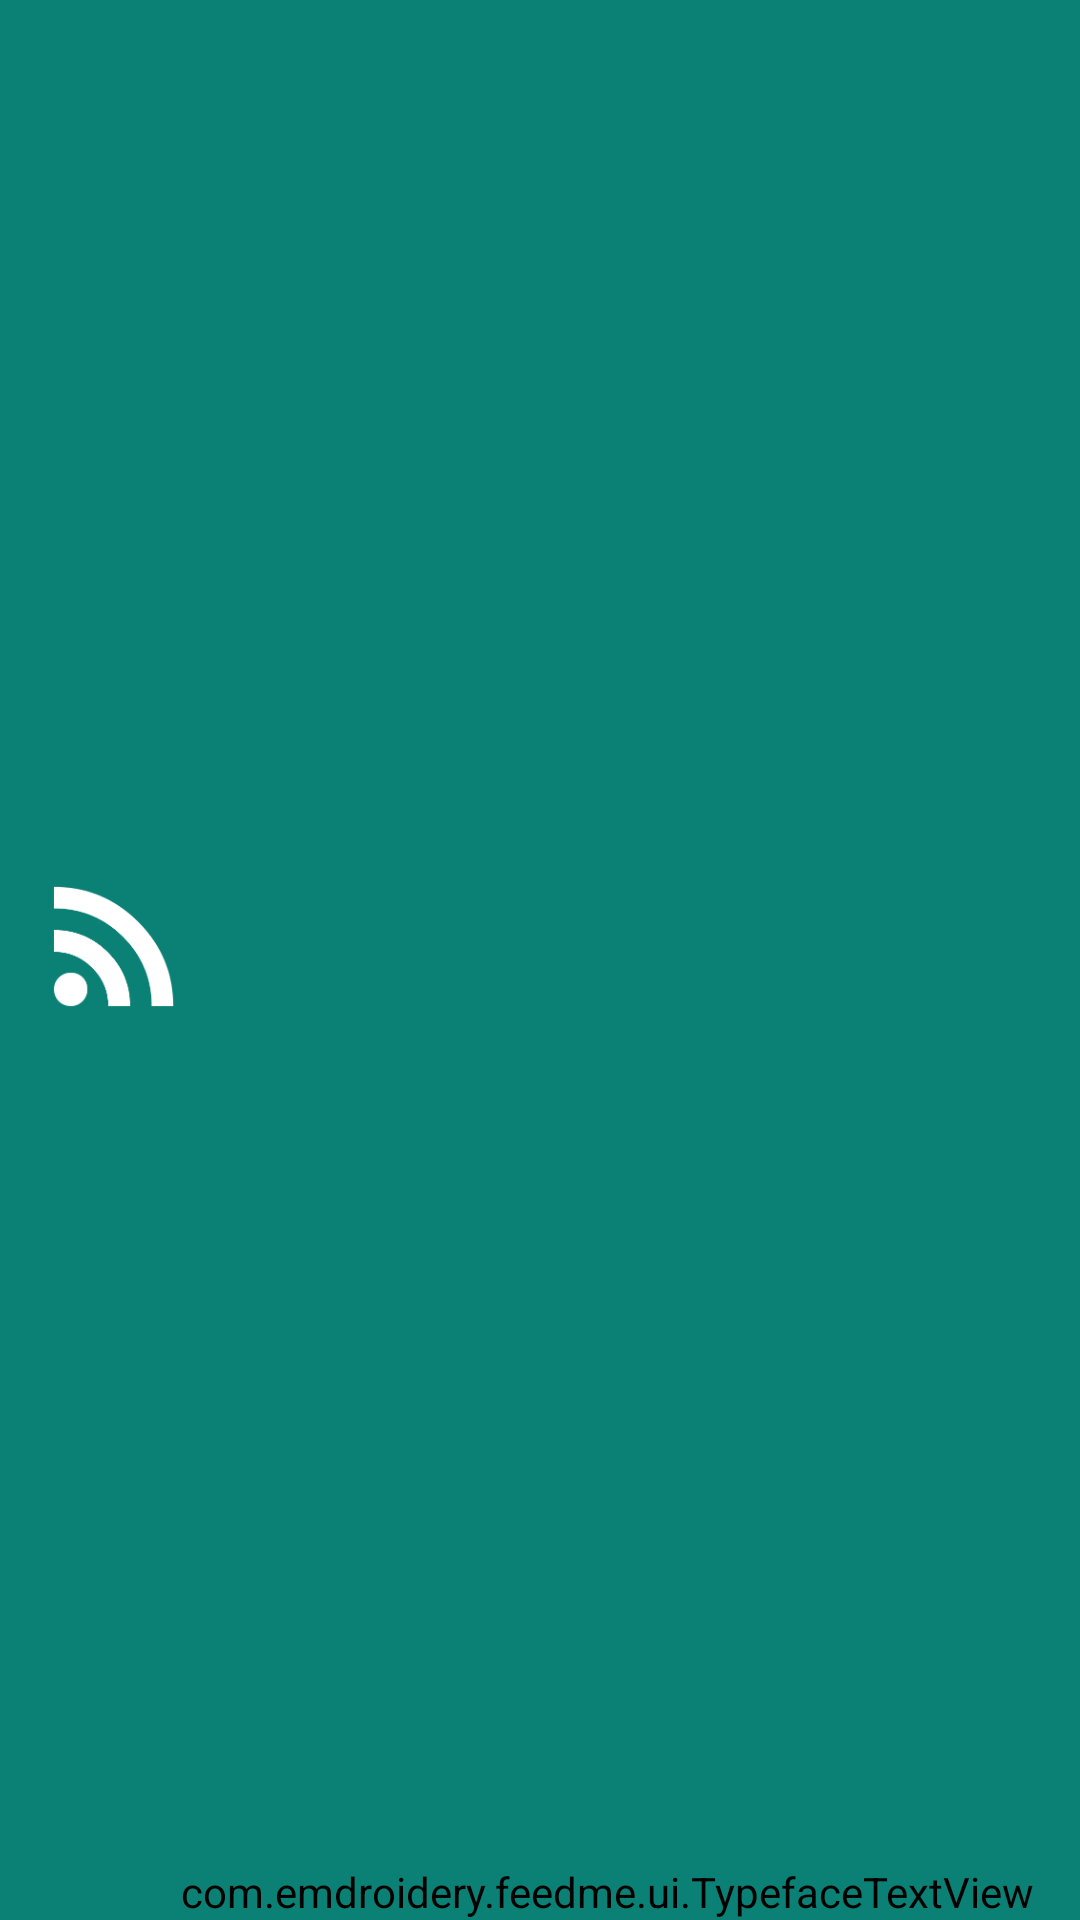

Icons on this 1080w x 1920h Android screen, each with the point to tap as [x,y]:
rss feed: [114,946]
